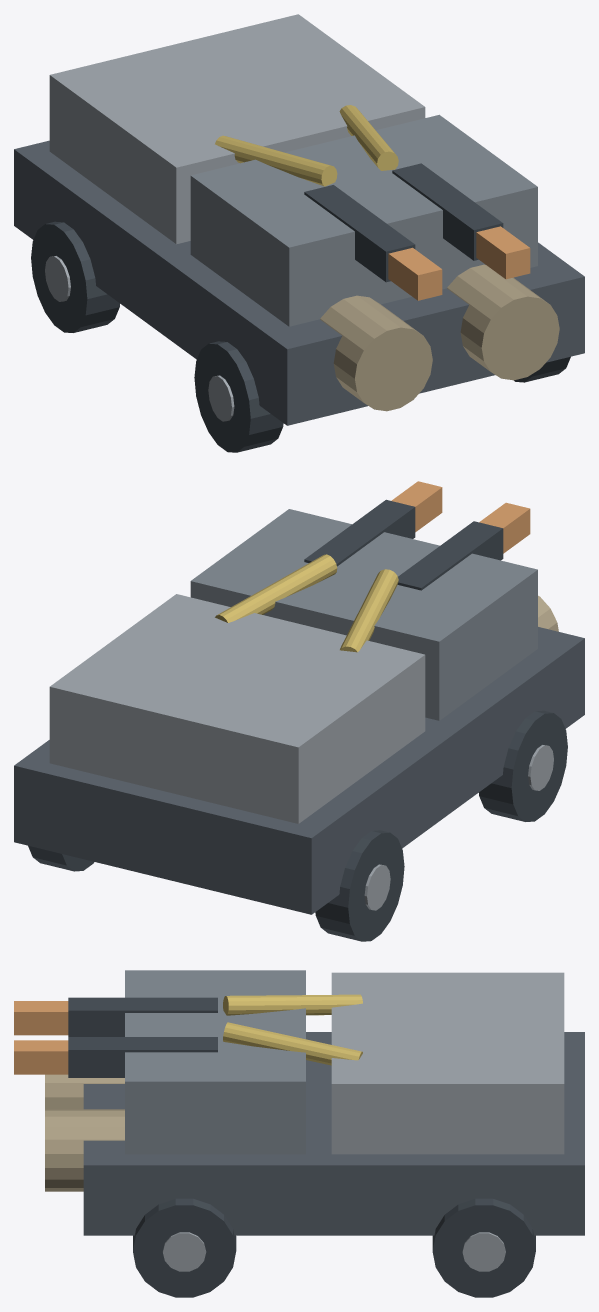
The model's file is human_heavy_flame_jeep.glb.
3 renders of one model, top to bottom at view 1: azimuth 30°, elevation 25°; view 2: azimuth 150°, elevation 25°; view 3: azimuth 270°, elevation 25°, orthographic. The views are drawn at different scales.
Parts seen in each view (by area): view 1: flame_hull, chassis, cab, fuel_tank_-1, fuel_tank_1, wheel_-1_0, wheel_1_0, flamer_-1, flamer_1, fuel_pipe_-1, flame_burst_-1, flame_burst_1 (+3 smaller); view 2: flame_hull, chassis, cab, wheel_1_0, wheel_-1_0, flamer_-1, flamer_1, fuel_pipe_1, fuel_pipe_-1, flame_burst_1, flame_burst_-1, wheel_1_0_hub (+2 smaller); view 3: chassis, flame_hull, cab, wheel_-1_1, wheel_1_1, fuel_tank_1, flamer_1, flamer_-1, fuel_pipe_1, fuel_pipe_-1, flame_burst_1, flame_burst_-1 (+3 smaller).
Boxes of the visible parts, bbox=[...] form: flame_hull: bbox=[49, 14, 425, 244]; chassis: bbox=[14, 140, 584, 425]; cab: bbox=[190, 114, 537, 326]; fuel_tank_-1: bbox=[320, 295, 432, 411]; fuel_tank_1: bbox=[447, 264, 559, 380]; wheel_-1_0: bbox=[194, 341, 283, 452]; wheel_1_0: bbox=[31, 221, 119, 332]; flamer_-1: bbox=[304, 185, 415, 282]; flamer_1: bbox=[392, 163, 503, 260]; fuel_pipe_-1: bbox=[215, 135, 337, 186]; flame_burst_-1: bbox=[388, 247, 442, 300]; flame_burst_1: bbox=[476, 226, 530, 279]; flame_hull: bbox=[49, 594, 425, 823]; chassis: bbox=[14, 627, 584, 914]; cab: bbox=[190, 509, 537, 720]; wheel_1_0: bbox=[315, 830, 404, 941]; wheel_-1_0: bbox=[479, 710, 567, 821]; flamer_-1: bbox=[397, 521, 503, 590]; flamer_1: bbox=[304, 499, 415, 566]; fuel_pipe_1: bbox=[215, 554, 337, 622]; fuel_pipe_-1: bbox=[340, 569, 398, 652]; flame_burst_1: bbox=[391, 481, 442, 532]; flame_burst_-1: bbox=[479, 502, 530, 553]; wheel_1_0_hub: bbox=[364, 864, 390, 910]; chassis: bbox=[83, 1032, 584, 1235]; flame_hull: bbox=[331, 972, 564, 1154]; cab: bbox=[125, 970, 305, 1154]; wheel_-1_1: bbox=[133, 1198, 236, 1297]; wheel_1_1: bbox=[432, 1198, 535, 1297]; fuel_tank_1: bbox=[45, 1109, 124, 1191]; flamer_1: bbox=[68, 1037, 217, 1077]; flamer_-1: bbox=[68, 997, 217, 1036]; fuel_pipe_1: bbox=[223, 1022, 362, 1065]; fuel_pipe_-1: bbox=[223, 994, 362, 1015]; flame_burst_1: bbox=[14, 1040, 68, 1074]; flame_burst_-1: bbox=[14, 1001, 68, 1035].
Size of the model in its own units: 1.34 by 0.9158 by 2.21.
